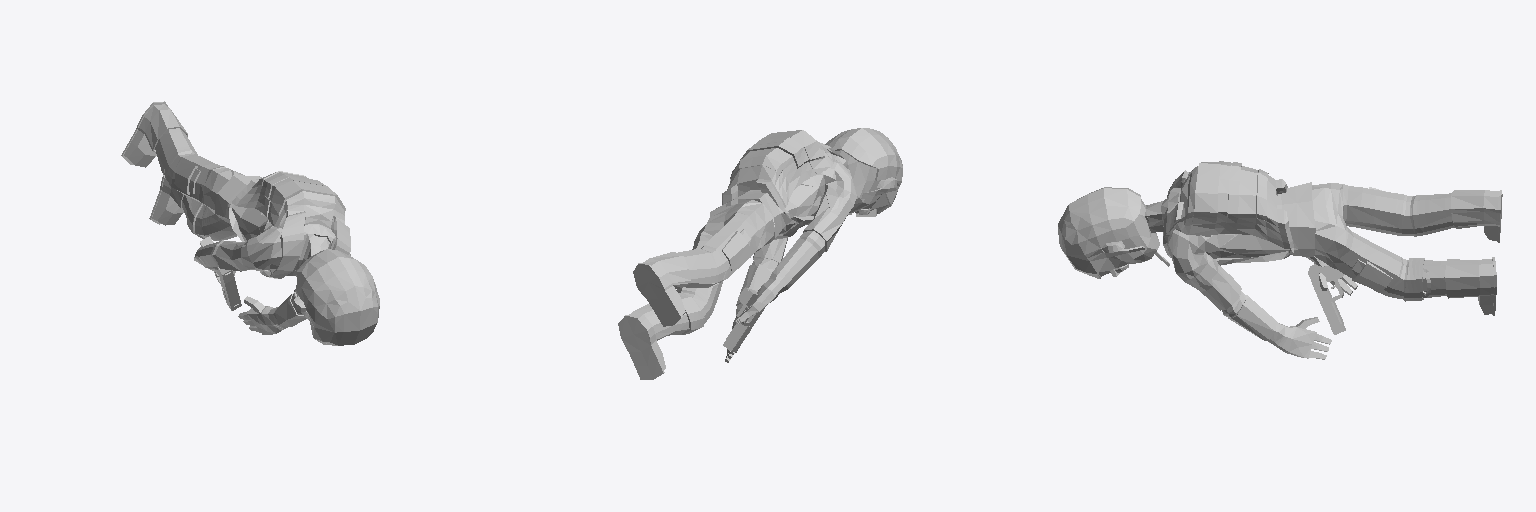
The model's file is frame_0009.obj.
3 renders of one model, left to right at view 1: azimuth 30°, elevation 25°; view 2: azimuth 150°, elevation 25°; view 3: azimuth 270°, elevation 25°, orthographic.
Parts seen in each view (by area): view 1: Body, Gun; view 2: Body, Gun; view 3: Body, Gun.
Part boxes in pixels (x1,y1,x2,y2): Body: (121,101,379,345); Gun: (200,236,241,310); Body: (618,128,902,379); Gun: (723,287,766,351); Body: (1058,161,1502,359); Gun: (1308,264,1345,334).
Size of the model in its own units: 1.08 by 1.96 by 4.13.